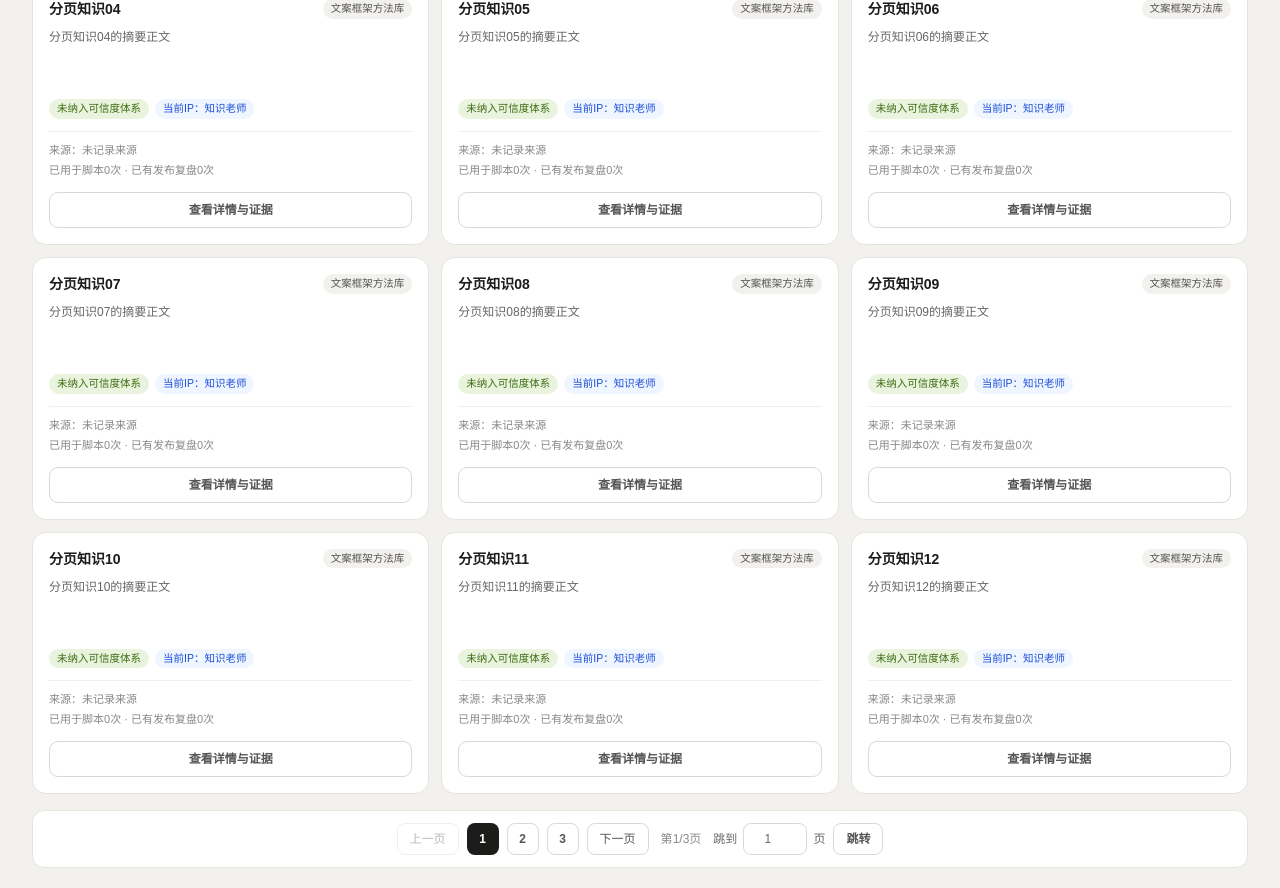
Test: 知识浏览每页显示12条并支持页码、上一页下一页和直接跳转
(page scrolled)
Expected: the text "分页知识13" is not shown
Click the button "下一页".
click(618, 839)  # box [587,823,649,855]
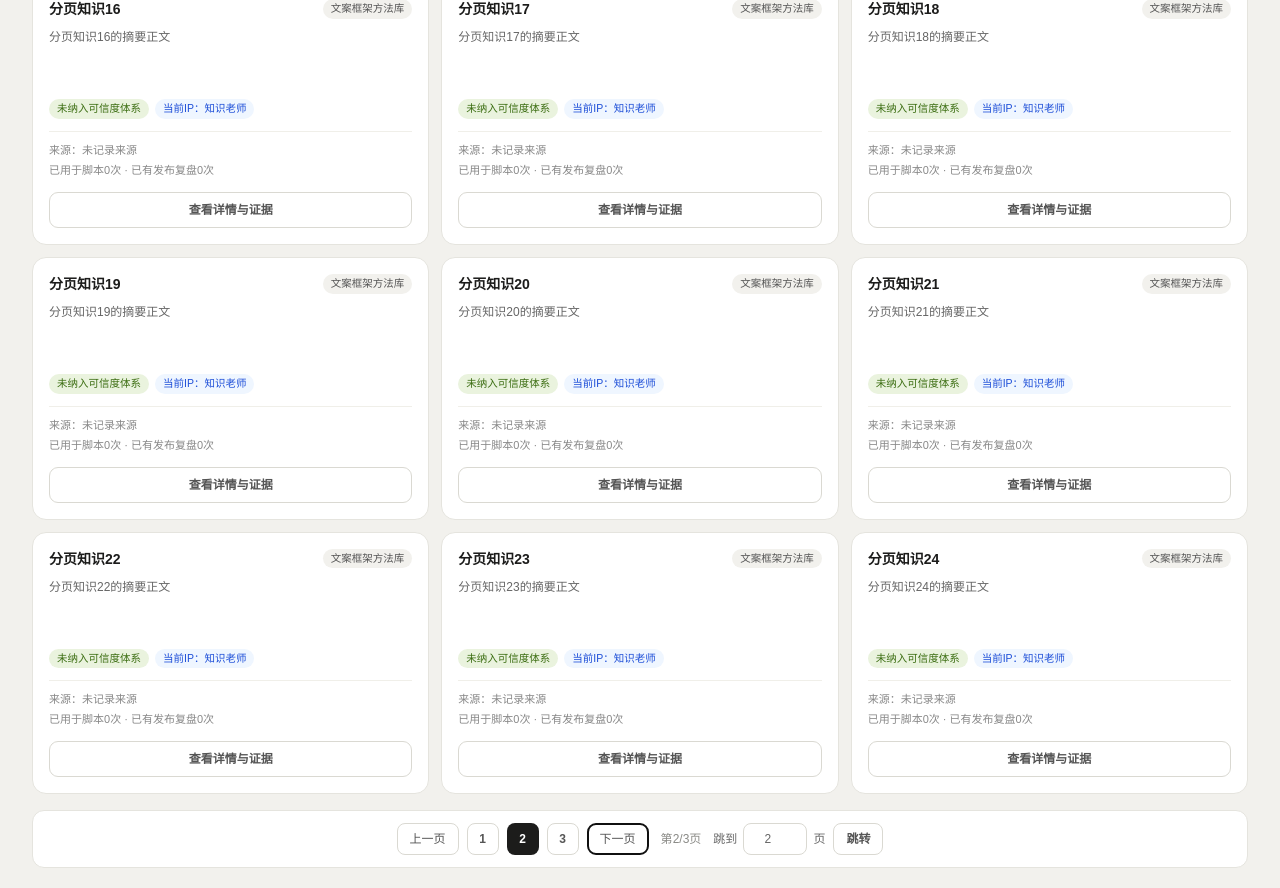
Replace the text in the number field named "跳转页码" with "3" at (775, 839), box [743,823,807,855]
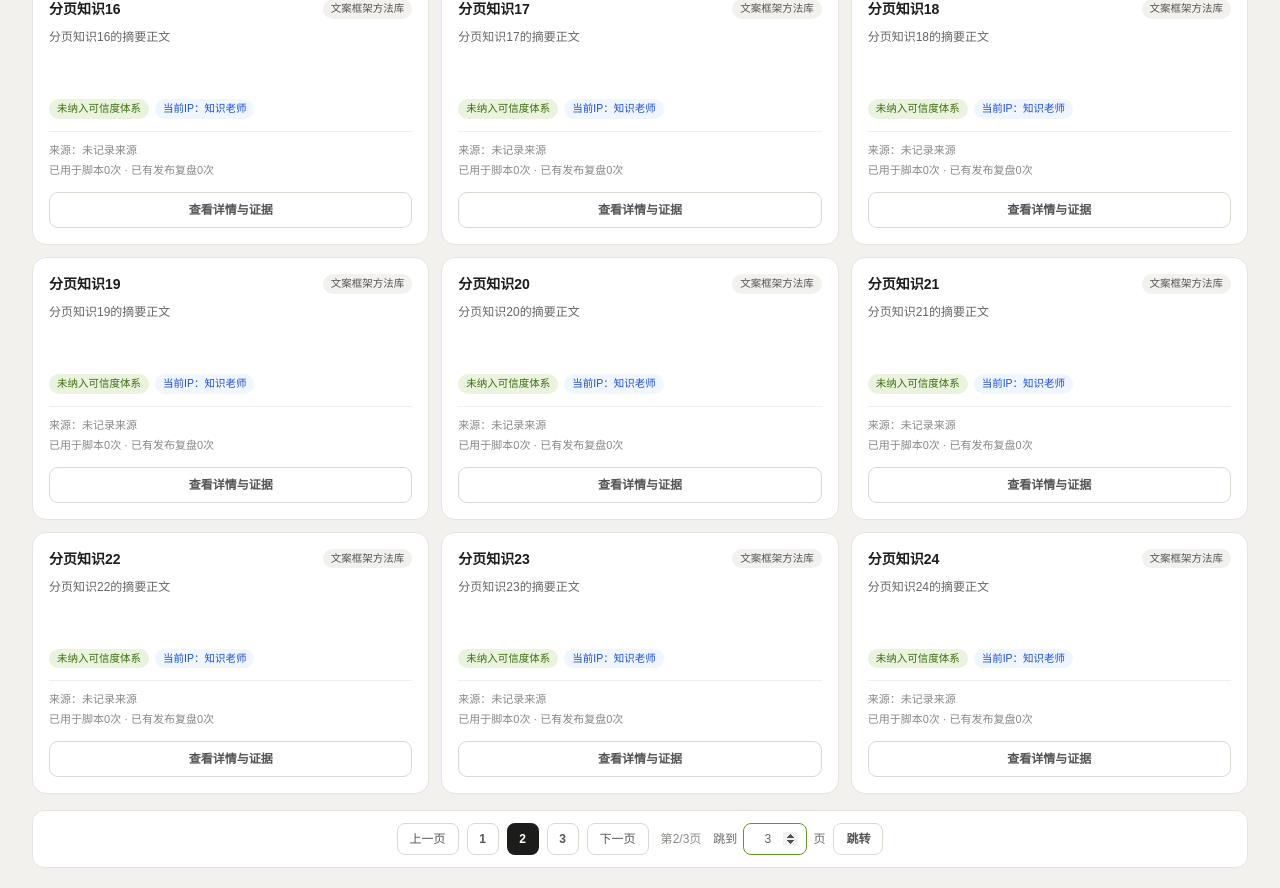
Click the button "跳转".
click(858, 839)  # box [833,823,883,855]
(page scrolled)
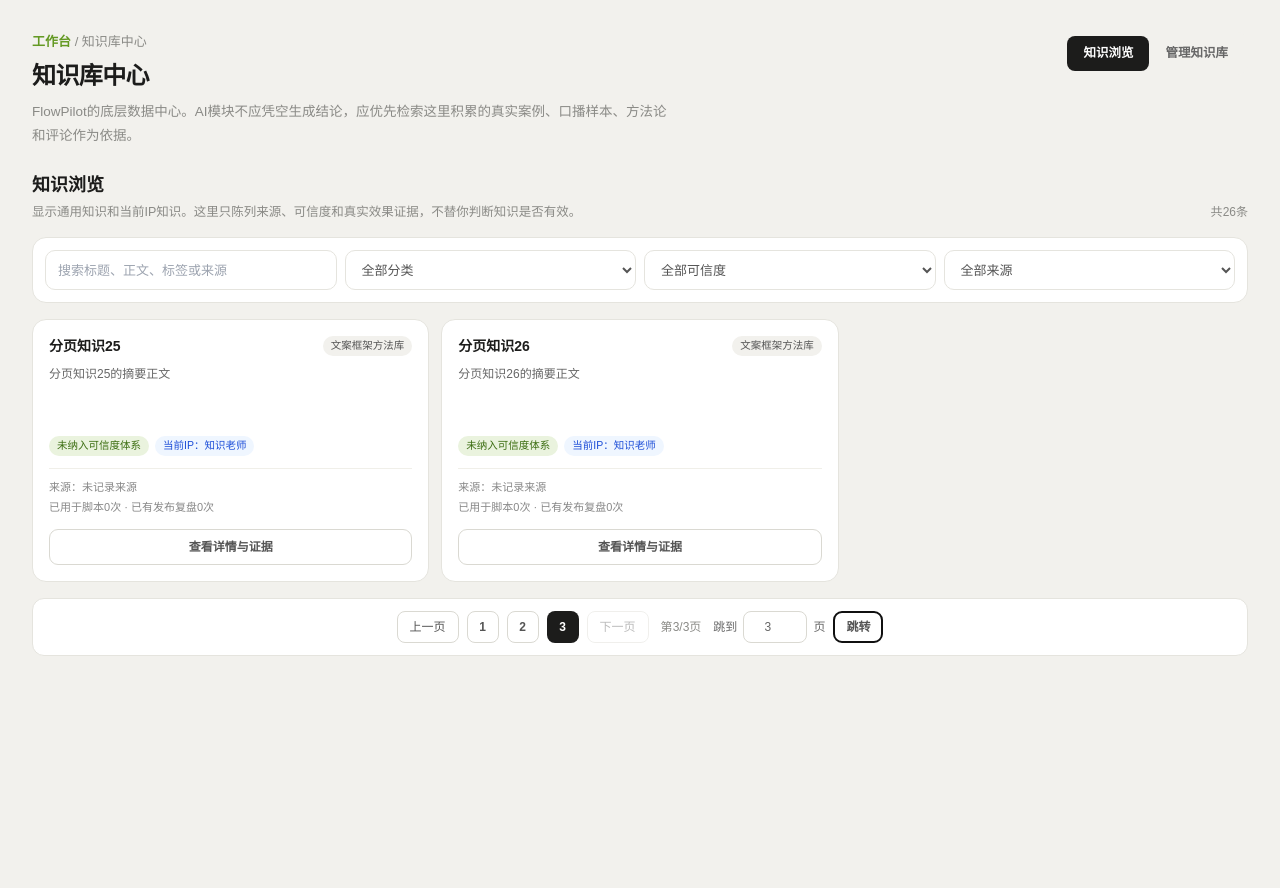
Expected: the heading "分页知识25" is shown, [49,336,121,356]
Click the button "上一页".
click(428, 627)  # box [397,611,459,643]
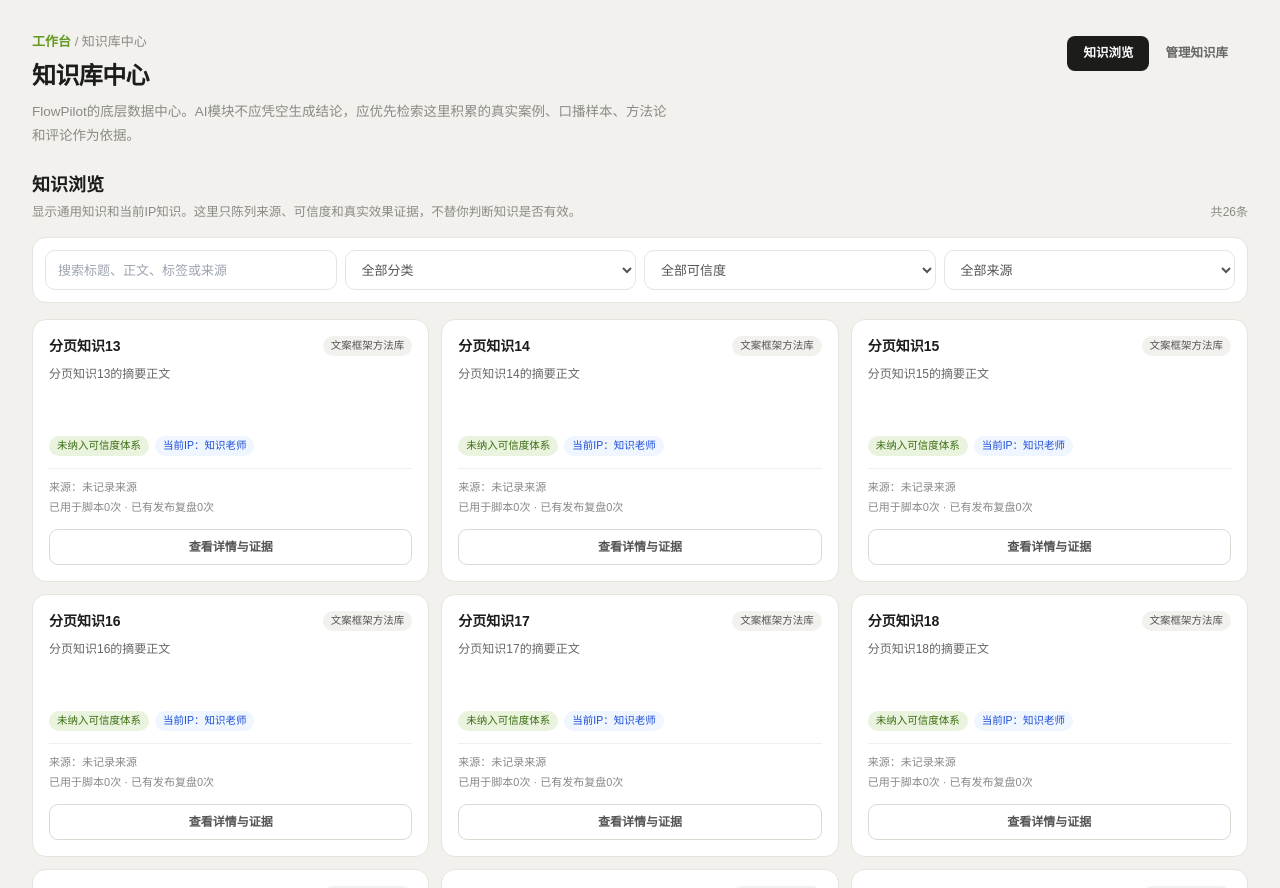
Expected: the heading "分页知识13" is shown, [49,336,121,356]
